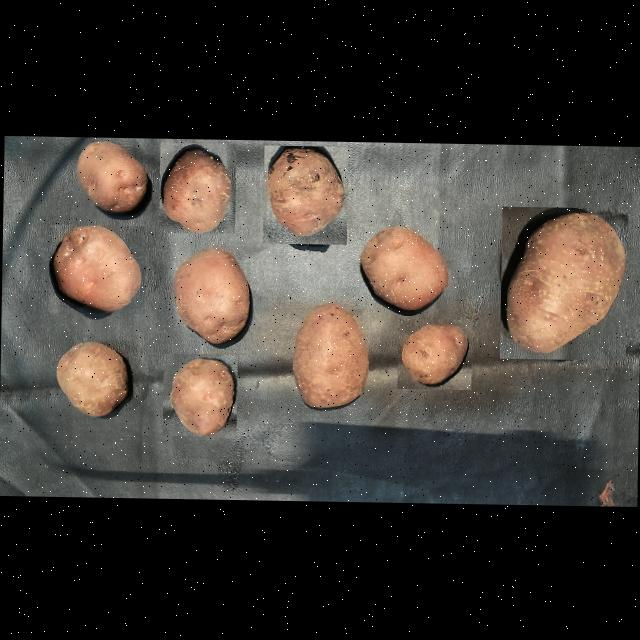Diseased-fungal potato: (498, 205, 627, 359), (284, 304, 371, 414), (47, 222, 145, 314), (356, 219, 452, 310), (170, 244, 252, 350), (261, 144, 347, 243), (157, 142, 236, 232), (48, 337, 132, 419), (161, 352, 236, 436), (72, 139, 150, 214), (396, 317, 471, 388)
